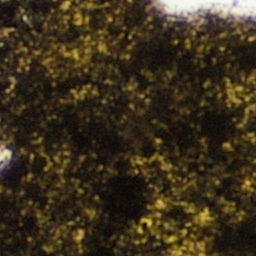cement_matrix: (0, 0, 255, 255)
gravel_crushed_stones: (158, 0, 255, 15), (0, 146, 9, 166)
